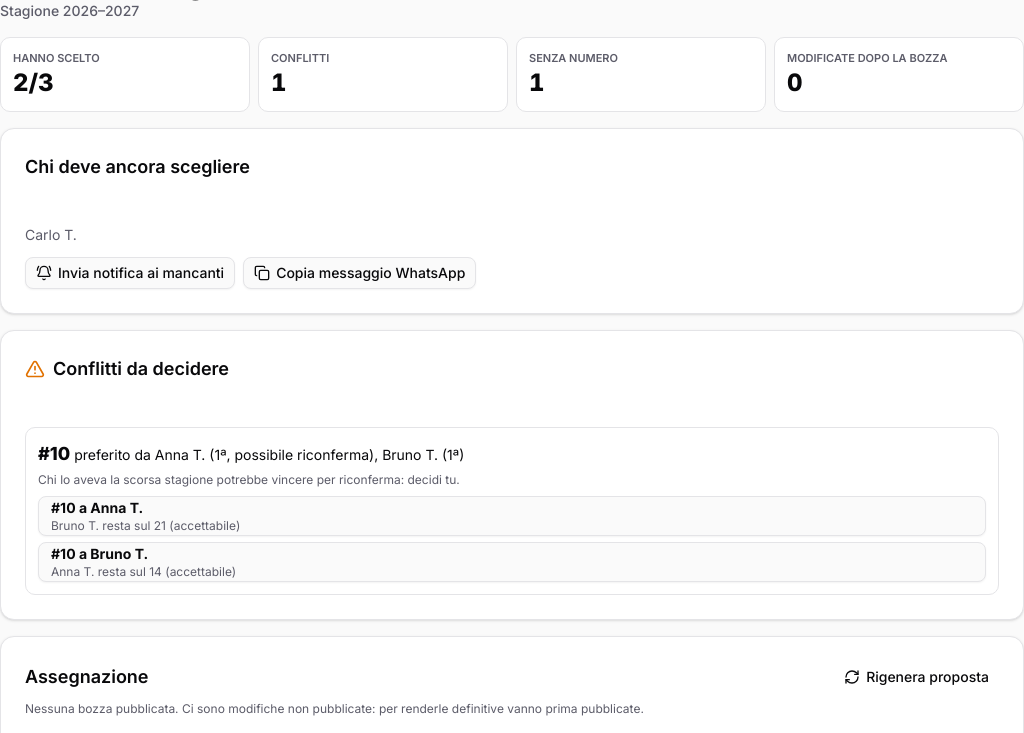
it: JerseyAssignmentManager › lets the manager enter preferences on behalf of a player
Click the button "#10 a Anna T. Bruno T. resta sul 21 (accettabile)": (117, 507) [38,496,986,536]
(page scrolled)
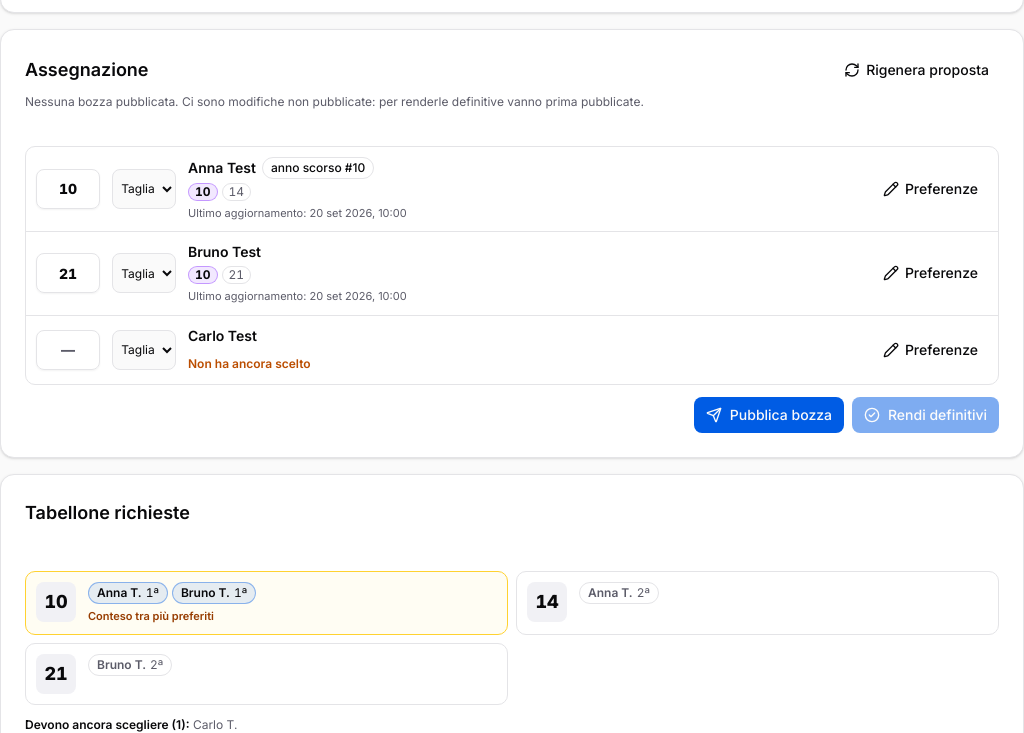
Click the button with aria-label "Preferenze di Carlo Test": (930, 350) [873,334,988,366]
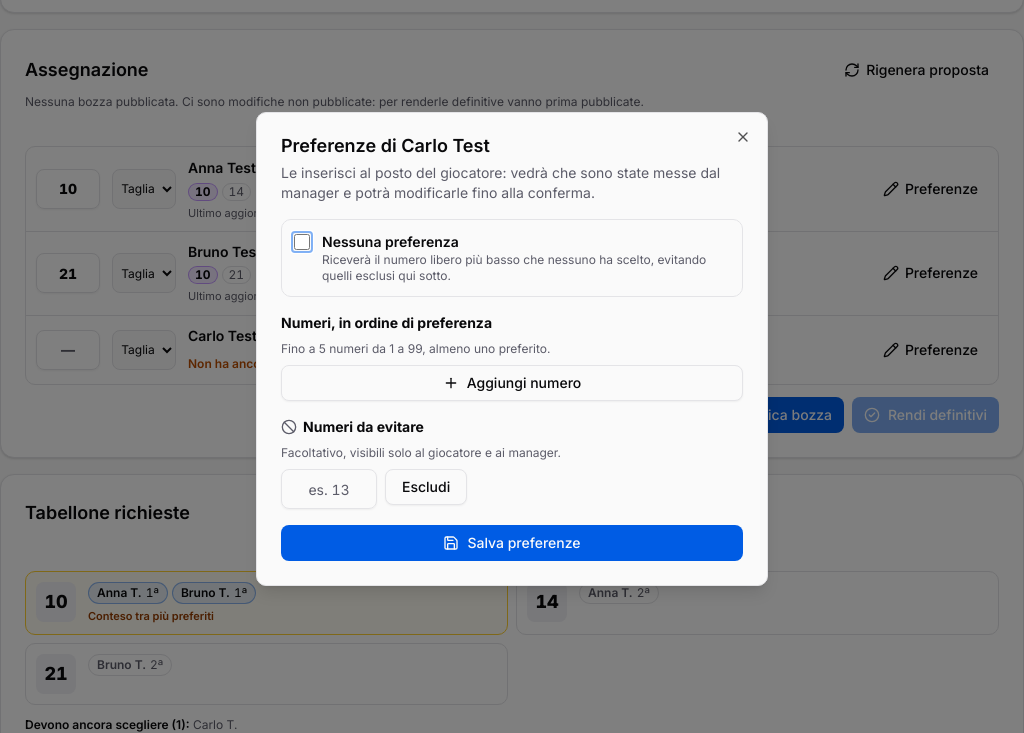
Expected: the dialog "Preferenze di Carlo Test" shows "inserisci al posto del giocatore", [281,164,720,201]
Click the checkbox labelled "Nessuna preferenza": (302, 242) [294,234,310,250]
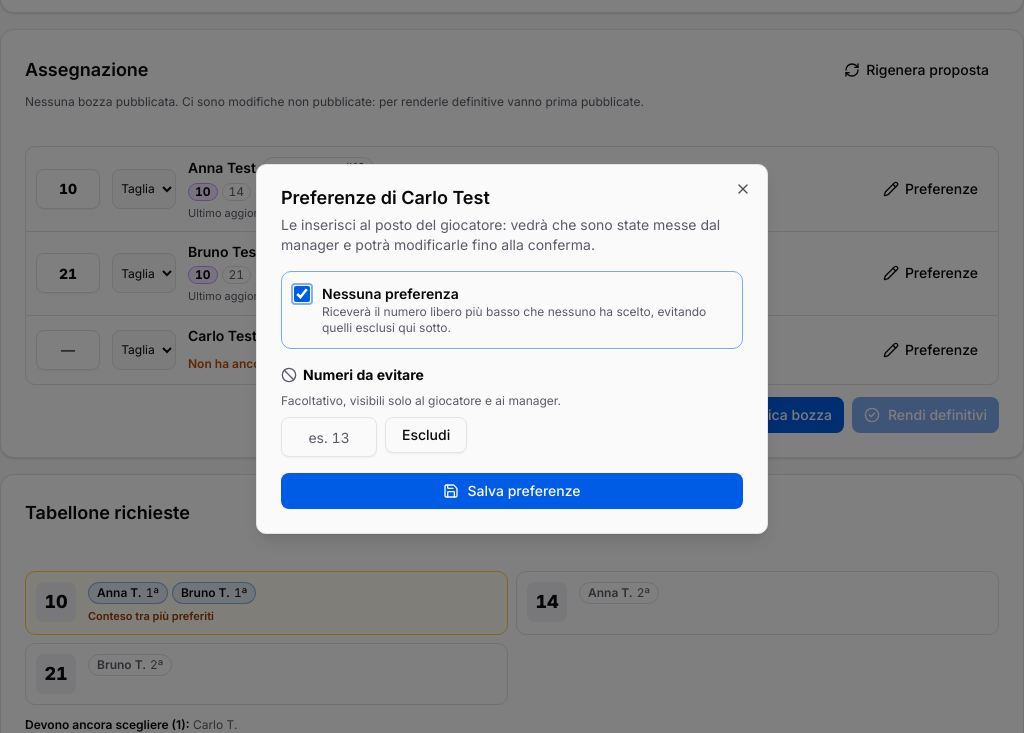
Click the button "Salva preferenze": (512, 491) [281,473,743,509]
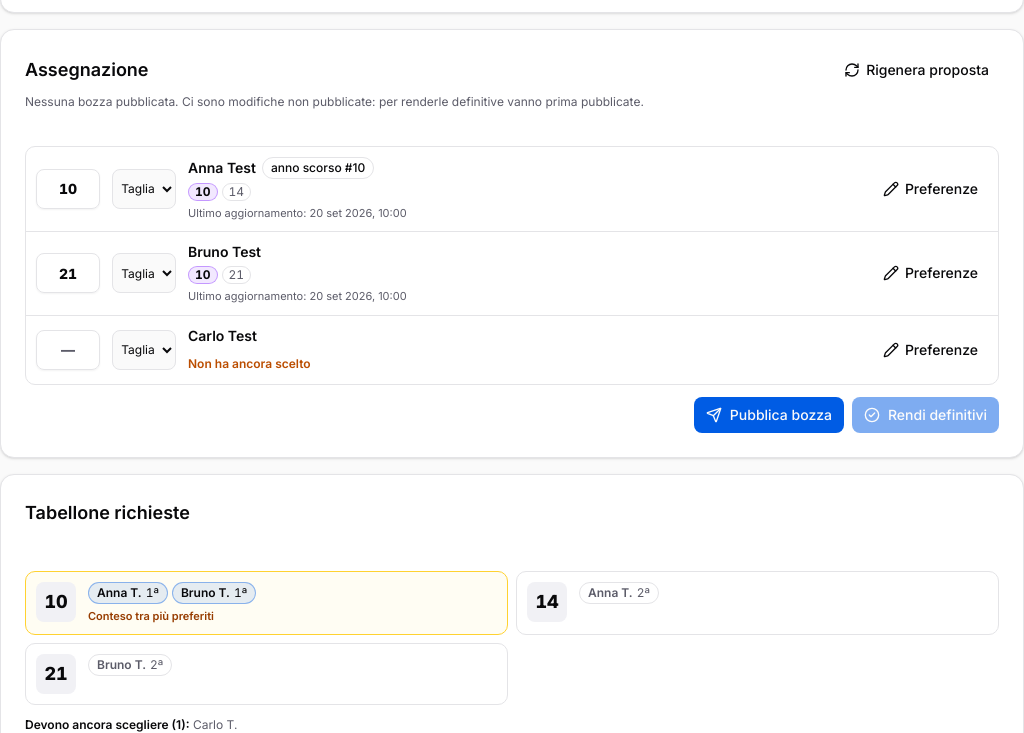
Expected: the field named "Numero di Anna Test" holds "10", [36,169,100,209]
Expected: the dialog is gone
